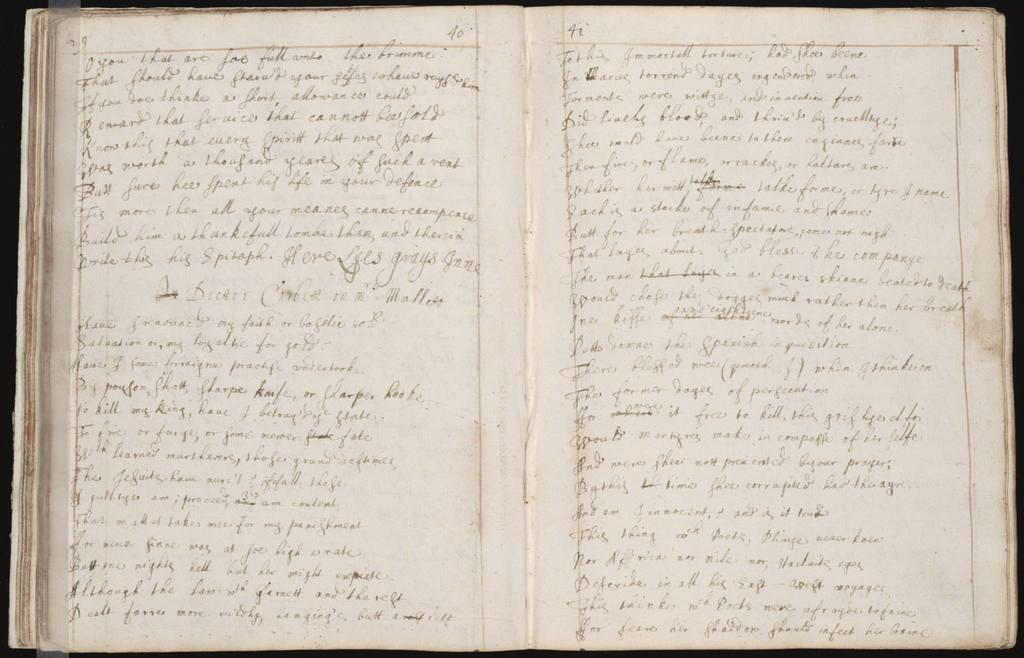book: (15, 0, 1015, 657)
